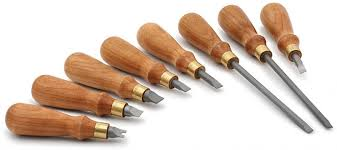Screwdriver: (179, 13, 312, 131), (218, 5, 331, 127), (137, 23, 221, 88), (64, 53, 163, 103), (101, 36, 190, 91), (32, 75, 142, 116), (6, 103, 126, 139), (260, 3, 301, 61)
